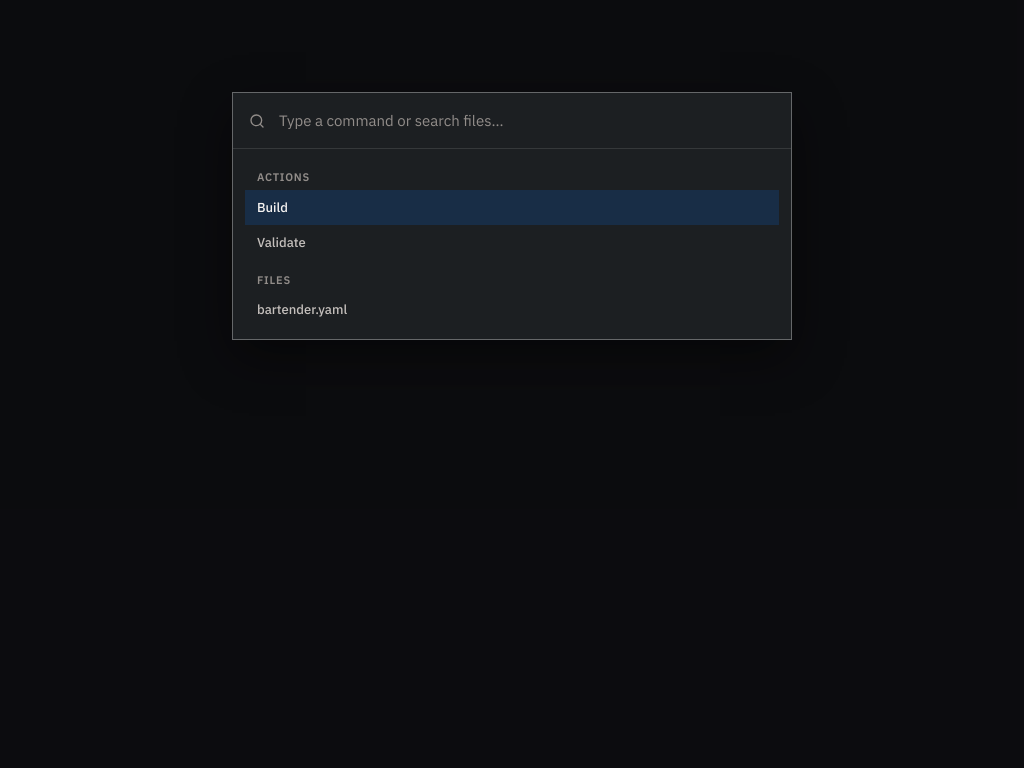
Scenario: CommandPalette real interaction › requires every space-separated term to match
Type "problems build" into the dropdown with placeholder "Type a command or search files…" at (526, 121), box left=277, top=93, right=775, bottom=148
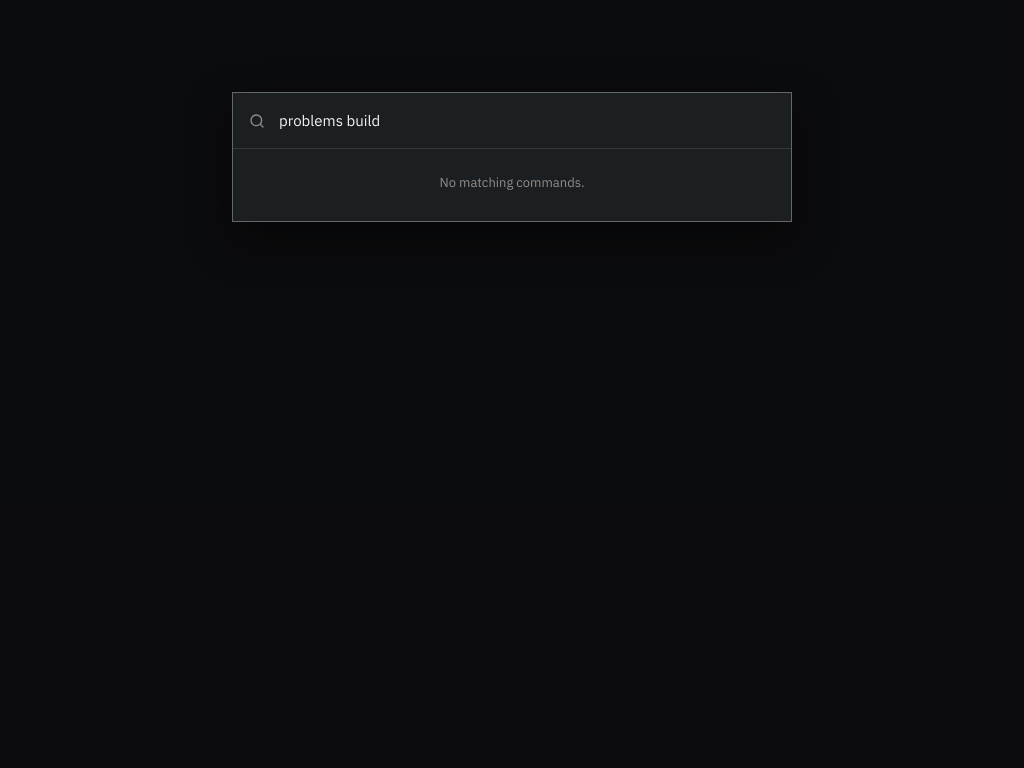
Expected: the text "No matching commands." is shown, left=440, top=174, right=584, bottom=191
